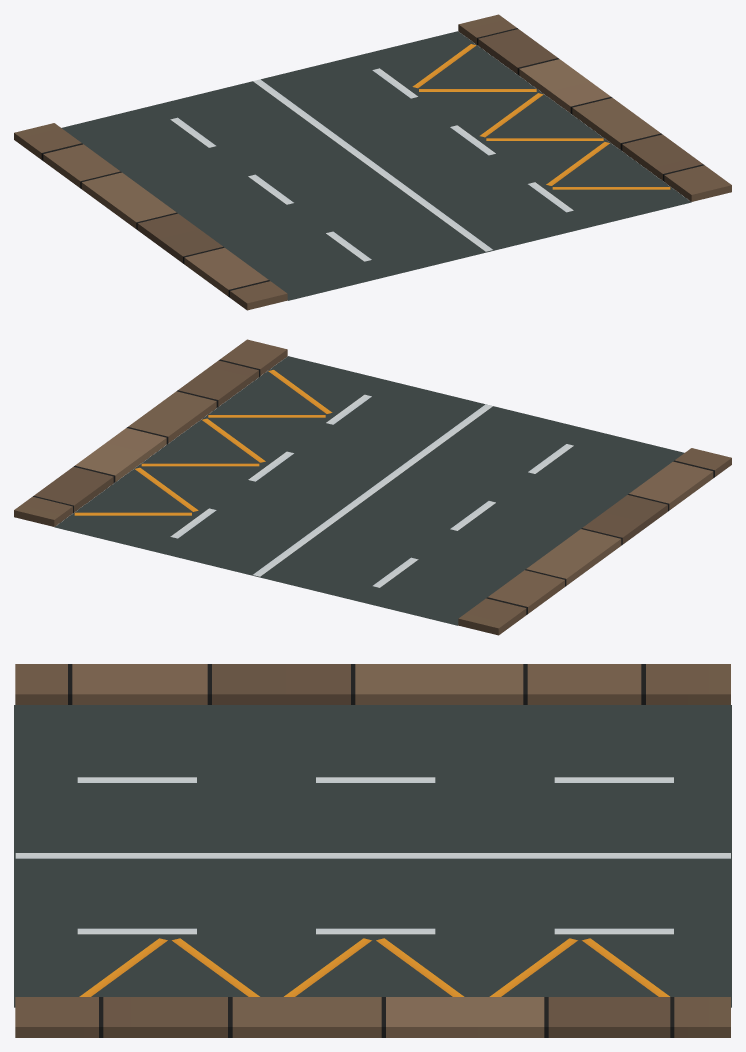
The model's file is Road_1_212.fbx.
3 views of the same model, one above another, from view 1: azimuth 30°, elevation 25°; view 2: azimuth 150°, elevation 25°; view 3: azimuth 270°, elevation 25° (orthographic). The views are drawn at different scales.
Parts seen in each view (by area): view 1: Road_1_212; view 2: Road_1_212; view 3: Road_1_212.
Part boxes in pixels (x1,y1,x2,y2): Road_1_212: (14, 14, 731, 310); Road_1_212: (14, 339, 731, 635); Road_1_212: (14, 664, 731, 1037).
Bounding box in the file's own units: 2161 × 30 × 1806.
